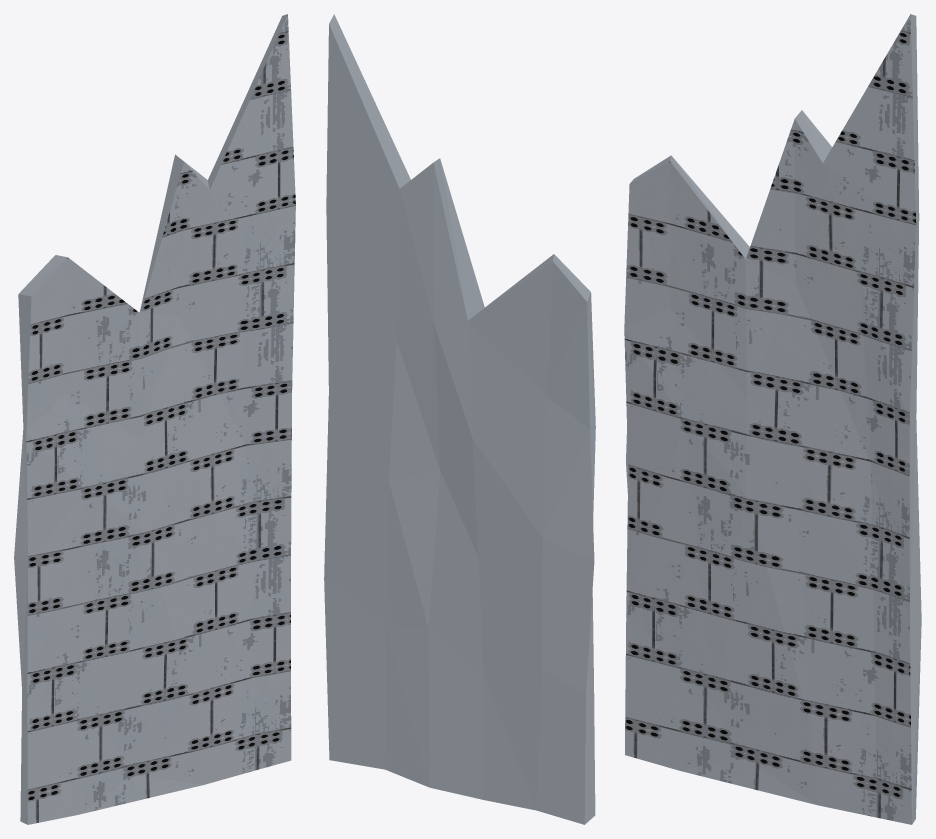
File: plat1.glb
The picture shows the model from 3 angles, left to right: view 1: azimuth 30°, elevation 25°; view 2: azimuth 150°, elevation 25°; view 3: azimuth 330°, elevation 25°; orthographic projection. The views are drawn at different scales.
Visible parts, largest first — view 1: Solar_big_broken_0; view 2: Solar_big_broken_0; view 3: Solar_big_broken_0.
Part boxes in pixels (x1,y1,x2,y2): Solar_big_broken_0: (14, 14, 295, 824); Solar_big_broken_0: (324, 14, 595, 824); Solar_big_broken_0: (624, 14, 921, 824).
Size of the model in its own units: 4 by 10.43 by 0.3366.
1 material, 1 textured.
